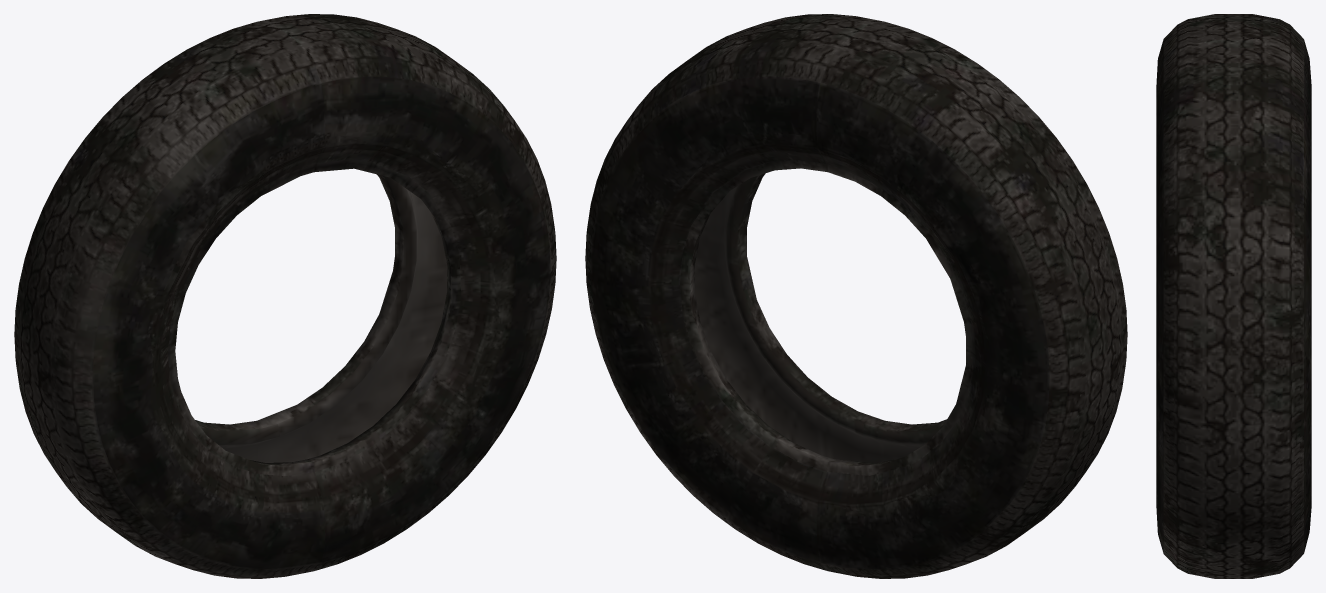
The model's file is old_tyre.glb.
3 views of the same model, side by side, from view 1: azimuth 30°, elevation 25°; view 2: azimuth 150°, elevation 25°; view 3: azimuth 270°, elevation 25° (orthographic). The views are drawn at different scales.
Parts seen in each view (by area): view 1: old_tyre; view 2: old_tyre; view 3: old_tyre.
Boxes of the visible parts, x1,y1,x2,y2 form: old_tyre: [14, 14, 556, 578]; old_tyre: [585, 14, 1127, 578]; old_tyre: [1156, 14, 1311, 578].
Bounding box in the file's own units: 0.6 × 0.6 × 0.165.
1 material, 1 textured.
